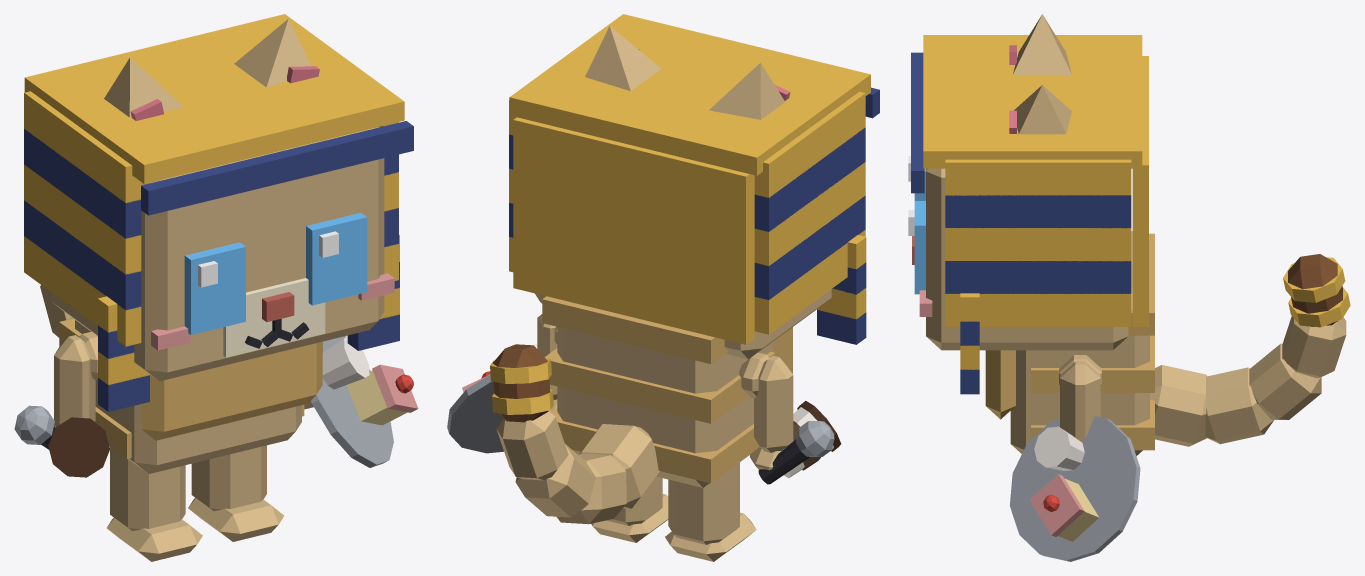
Rendered from CatCafe_Cat_Sphinx_Work.fbx.
3 views of the same model, side by side, from view 1: azimuth 30°, elevation 25°; view 2: azimuth 150°, elevation 25°; view 3: azimuth 270°, elevation 25° (orthographic). The views are drawn at different scales.
Visible parts, largest first — view 1: CatCafe_Cat_Sphinx_Work_Prop, CatCafe_Cat_Sphinx_Work_Head, CatCafe_Cat_Sphinx_Work_Body, CatCafe_Cat_Sphinx_Work_Held_Waiter, CatCafe_Cat_Sphinx_Work_LegB2, CatCafe_Cat_Sphinx_Work_LegB1, CatCafe_Cat_Sphinx_Work_Eye2, CatCafe_Cat_Sphinx_Work_Eye1, CatCafe_Cat_Sphinx_Work_LegF2, CatCafe_Cat_Sphinx_Work_EarL, CatCafe_Cat_Sphinx_Work_Held_Barista, CatCafe_Cat_Sphinx_Work_EarR (+2 smaller); view 2: CatCafe_Cat_Sphinx_Work_Prop, CatCafe_Cat_Sphinx_Work_Body, CatCafe_Cat_Sphinx_Work_Tail, CatCafe_Cat_Sphinx_Work_LegB2, CatCafe_Cat_Sphinx_Work_LegF2, CatCafe_Cat_Sphinx_Work_Held_Waiter, CatCafe_Cat_Sphinx_Work_EarL, CatCafe_Cat_Sphinx_Work_LegB1, CatCafe_Cat_Sphinx_Work_EarR, CatCafe_Cat_Sphinx_Work_Tail_Cuffs, CatCafe_Cat_Sphinx_Work_Held_Entertainer, CatCafe_Cat_Sphinx_Work_Head (+2 smaller); view 3: CatCafe_Cat_Sphinx_Work_Prop, CatCafe_Cat_Sphinx_Work_Tail, CatCafe_Cat_Sphinx_Work_Held_Waiter, CatCafe_Cat_Sphinx_Work_Body, CatCafe_Cat_Sphinx_Work_Head, CatCafe_Cat_Sphinx_Work_LegF1, CatCafe_Cat_Sphinx_Work_EarR, CatCafe_Cat_Sphinx_Work_EarL, CatCafe_Cat_Sphinx_Work_Tail_Cuffs, CatCafe_Cat_Sphinx_Work_Eye1.
Boxes of the visible parts, <box> form: CatCafe_Cat_Sphinx_Work_Prop: <box>24,14,413,411</box>; CatCafe_Cat_Sphinx_Work_Head: <box>51,127,394,381</box>; CatCafe_Cat_Sphinx_Work_Body: <box>59,318,322,473</box>; CatCafe_Cat_Sphinx_Work_Held_Waiter: <box>311,336,418,467</box>; CatCafe_Cat_Sphinx_Work_LegB2: <box>107,447,202,561</box>; CatCafe_Cat_Sphinx_Work_LegB1: <box>188,445,283,541</box>; CatCafe_Cat_Sphinx_Work_Eye2: <box>184,242,245,334</box>; CatCafe_Cat_Sphinx_Work_Eye1: <box>306,212,367,305</box>; CatCafe_Cat_Sphinx_Work_LegF2: <box>54,335,95,426</box>; CatCafe_Cat_Sphinx_Work_EarL: <box>234,19,319,87</box>; CatCafe_Cat_Sphinx_Work_Held_Barista: <box>48,417,109,477</box>; CatCafe_Cat_Sphinx_Work_EarR: <box>104,57,184,120</box>; CatCafe_Cat_Sphinx_Work_Prop: <box>509,14,879,344</box>; CatCafe_Cat_Sphinx_Work_Body: <box>542,296,792,487</box>; CatCafe_Cat_Sphinx_Work_Tail: <box>493,344,659,524</box>; CatCafe_Cat_Sphinx_Work_LegB2: <box>665,462,756,561</box>; CatCafe_Cat_Sphinx_Work_LegF2: <box>750,355,793,470</box>; CatCafe_Cat_Sphinx_Work_Held_Waiter: <box>447,343,537,453</box>; CatCafe_Cat_Sphinx_Work_EarL: <box>585,26,661,91</box>; CatCafe_Cat_Sphinx_Work_LegB1: <box>591,476,668,542</box>; CatCafe_Cat_Sphinx_Work_EarR: <box>709,63,790,119</box>; CatCafe_Cat_Sphinx_Work_Tail_Cuffs: <box>490,358,553,414</box>; CatCafe_Cat_Sphinx_Work_Held_Entertainer: <box>758,421,834,484</box>; CatCafe_Cat_Sphinx_Work_Head: <box>535,289,831,359</box>; CatCafe_Cat_Sphinx_Work_Prop: <box>911,35,1148,394</box>; CatCafe_Cat_Sphinx_Work_Tail: <box>1150,254,1346,446</box>; CatCafe_Cat_Sphinx_Work_Held_Waiter: <box>1009,416,1140,561</box>; CatCafe_Cat_Sphinx_Work_Body: <box>985,231,1154,455</box>; CatCafe_Cat_Sphinx_Work_Head: <box>912,168,1128,350</box>; CatCafe_Cat_Sphinx_Work_LegF1: <box>1060,361,1100,441</box>; CatCafe_Cat_Sphinx_Work_EarR: <box>1009,14,1071,74</box>; CatCafe_Cat_Sphinx_Work_EarL: <box>1009,85,1071,134</box>; CatCafe_Cat_Sphinx_Work_Tail_Cuffs: <box>1283,257,1350,327</box>; CatCafe_Cat_Sphinx_Work_Eye1: <box>908,201,925,294</box>.
Bounding box in the file's own units: 2 × 2.5 × 2.16.
1 material, 1 textured.
